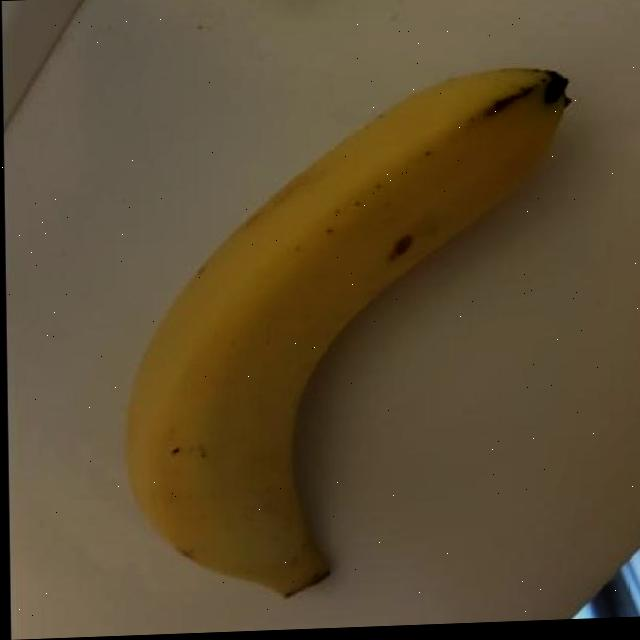banana: (104, 58, 594, 602)
